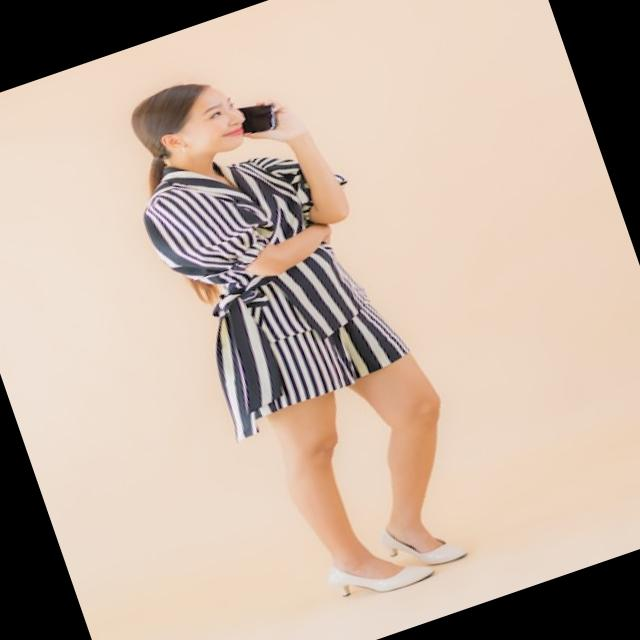Person: (106, 38, 494, 628)
